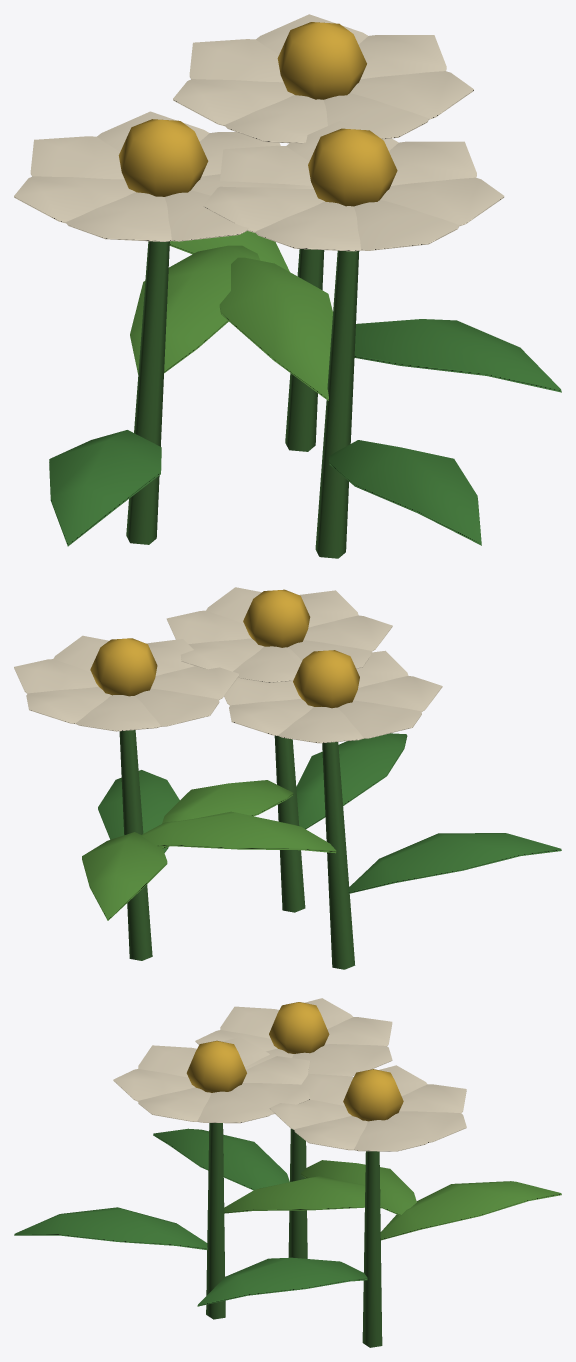
The model's file is daisy.glb.
The picture shows the model from 3 angles, top to bottom: view 1: azimuth 30°, elevation 25°; view 2: azimuth 150°, elevation 25°; view 3: azimuth 270°, elevation 25°; orthographic projection. The views are drawn at different scales.
Visible parts, largest first — view 1: daisy; view 2: daisy; view 3: daisy.
Boxes of the visible parts, box(x1,y1,x2,y2) form: daisy: box(14, 14, 561, 558); daisy: box(14, 587, 561, 969); daisy: box(14, 998, 561, 1347).
Size of the model in its own units: 0.4703 by 0.3435 by 0.6081.
